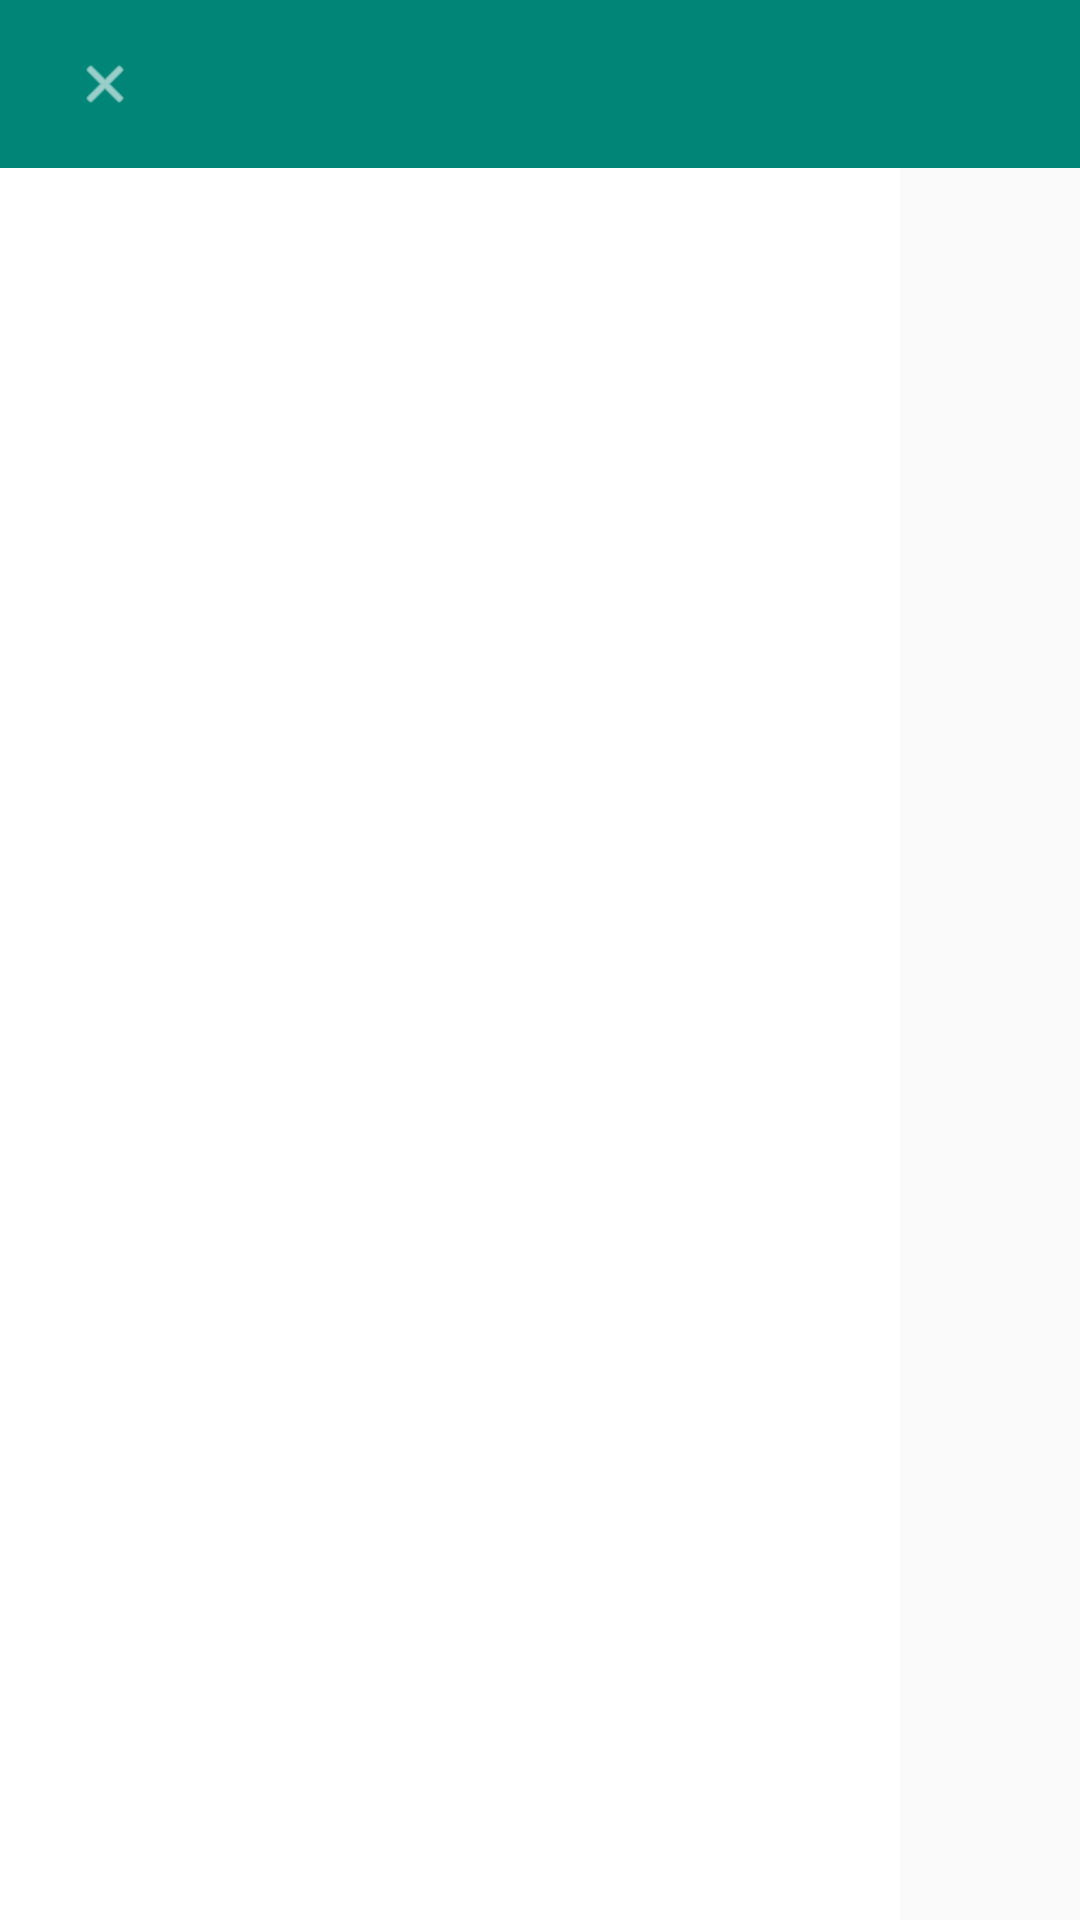

Point at icon controls on the screen. Image size 1080 x 1920, points as (x=x, y=y).
close clear cancel: (x=105, y=84)
